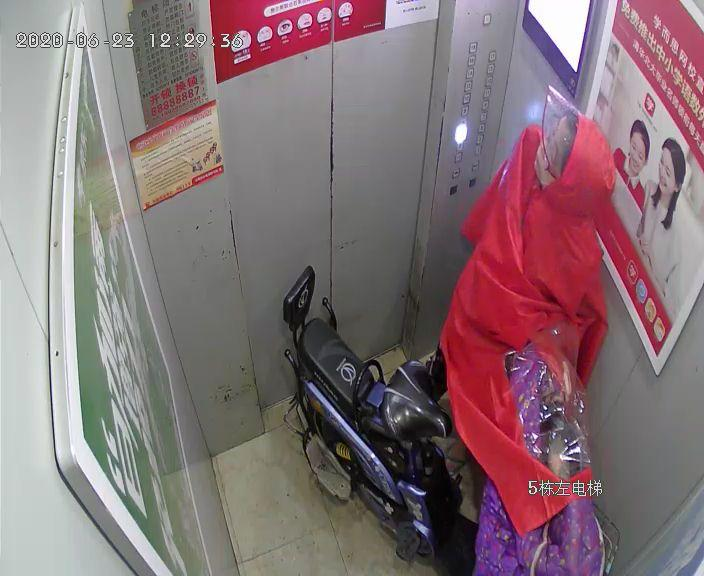Electric-bicycle: (285, 264, 623, 563)
